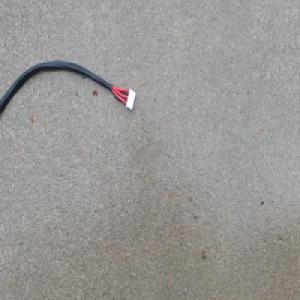Wire: (0, 59, 137, 125)
